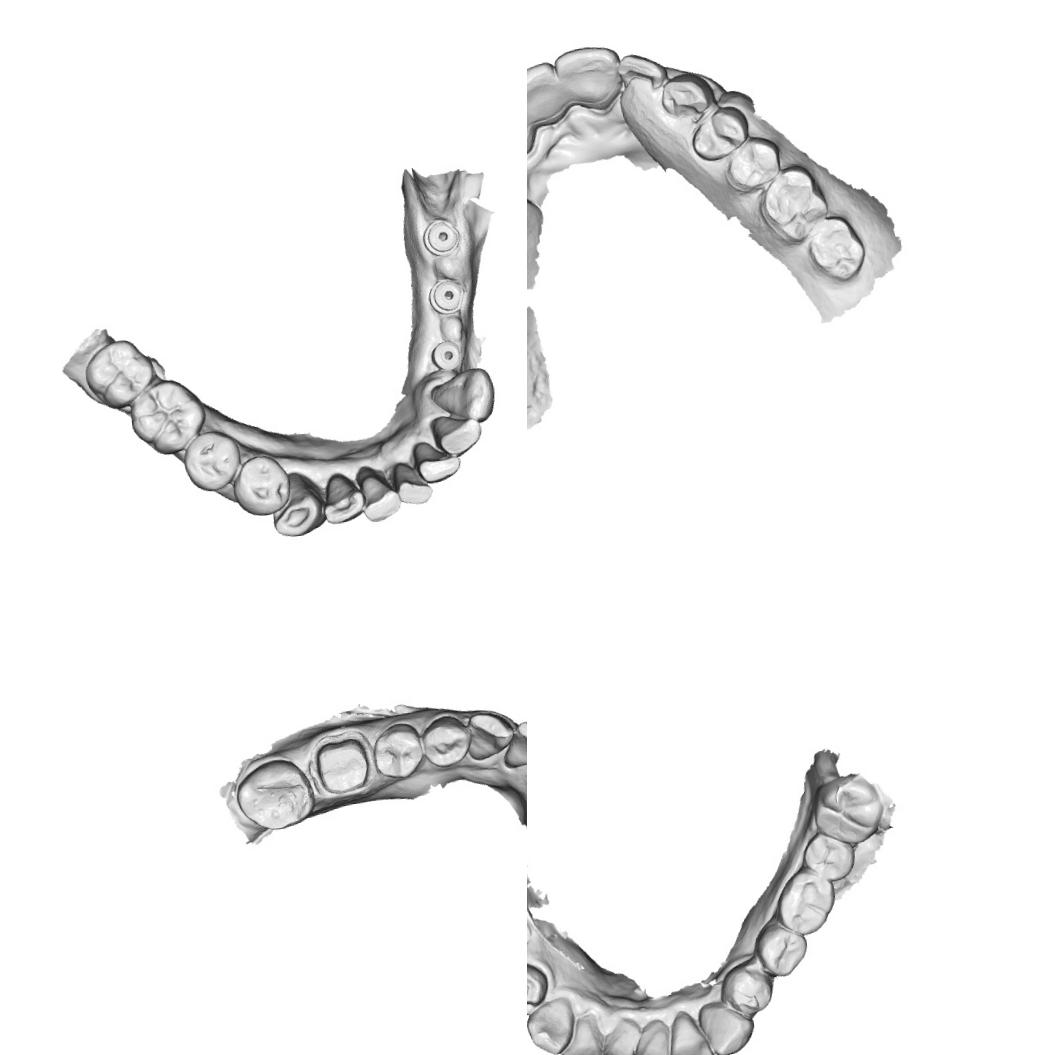canine: (426, 364, 500, 427), (266, 468, 329, 540), (695, 997, 757, 1055), (658, 68, 718, 121), (527, 995, 578, 1055), (463, 708, 516, 764)
crown: (307, 727, 377, 799)
implant: (420, 212, 464, 259), (427, 274, 471, 314), (429, 337, 468, 378)
incisor: (548, 42, 623, 112), (408, 431, 464, 486), (358, 463, 406, 526), (319, 468, 370, 527), (552, 1009, 610, 1055), (430, 411, 484, 460), (665, 1005, 716, 1055), (612, 48, 666, 95), (388, 454, 435, 507), (527, 58, 565, 122), (595, 1013, 647, 1055), (627, 1015, 680, 1055), (499, 718, 527, 770)
molar: (122, 375, 209, 460), (755, 160, 831, 250), (232, 755, 318, 834), (79, 334, 162, 412), (807, 772, 885, 850), (802, 210, 871, 288), (770, 866, 839, 940), (796, 824, 860, 887)
premolar: (178, 426, 245, 495), (230, 450, 294, 520), (685, 101, 753, 164), (722, 132, 787, 195), (750, 916, 812, 982), (713, 960, 779, 1022), (369, 720, 426, 781), (419, 713, 473, 771), (527, 959, 551, 1020)
